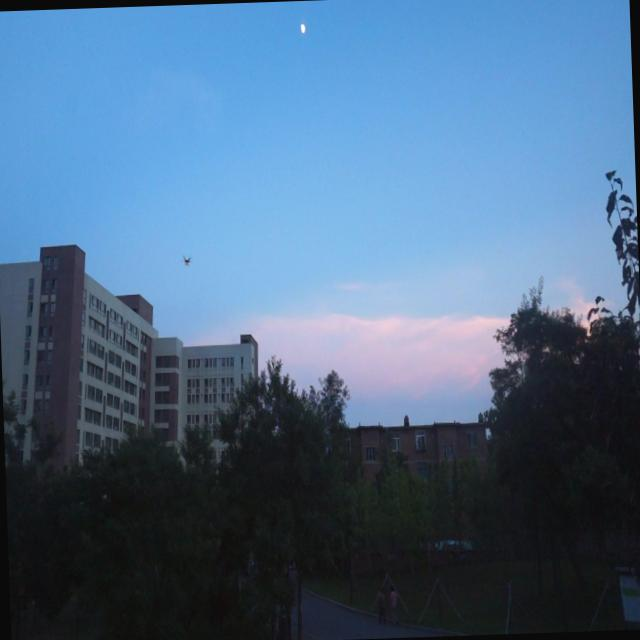drone: (180, 249, 194, 268)
